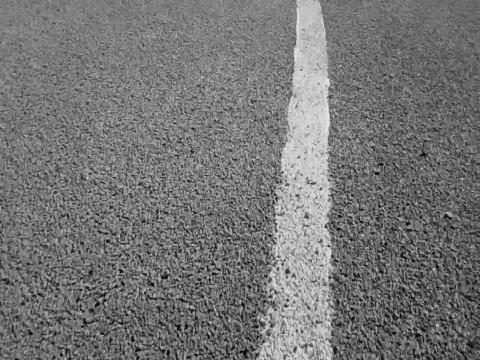Lines: (257, 0, 332, 360)
